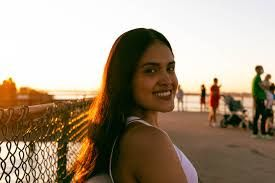no-mask: (109, 38, 192, 112)
